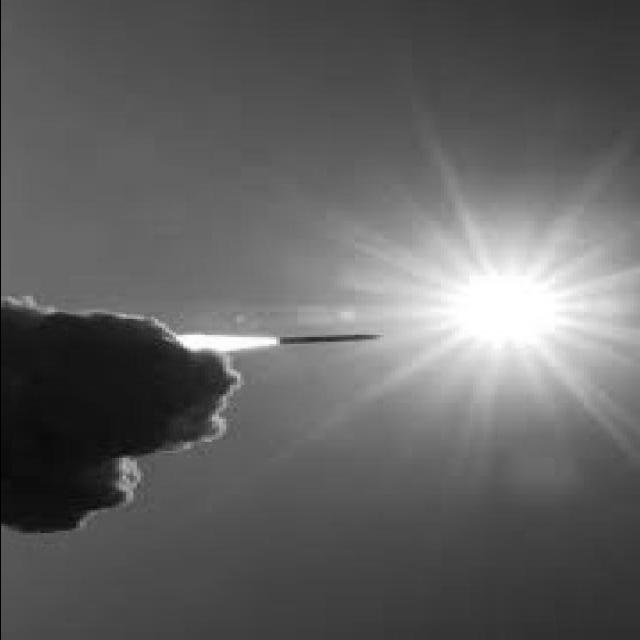Missile: (273, 331, 388, 349)
